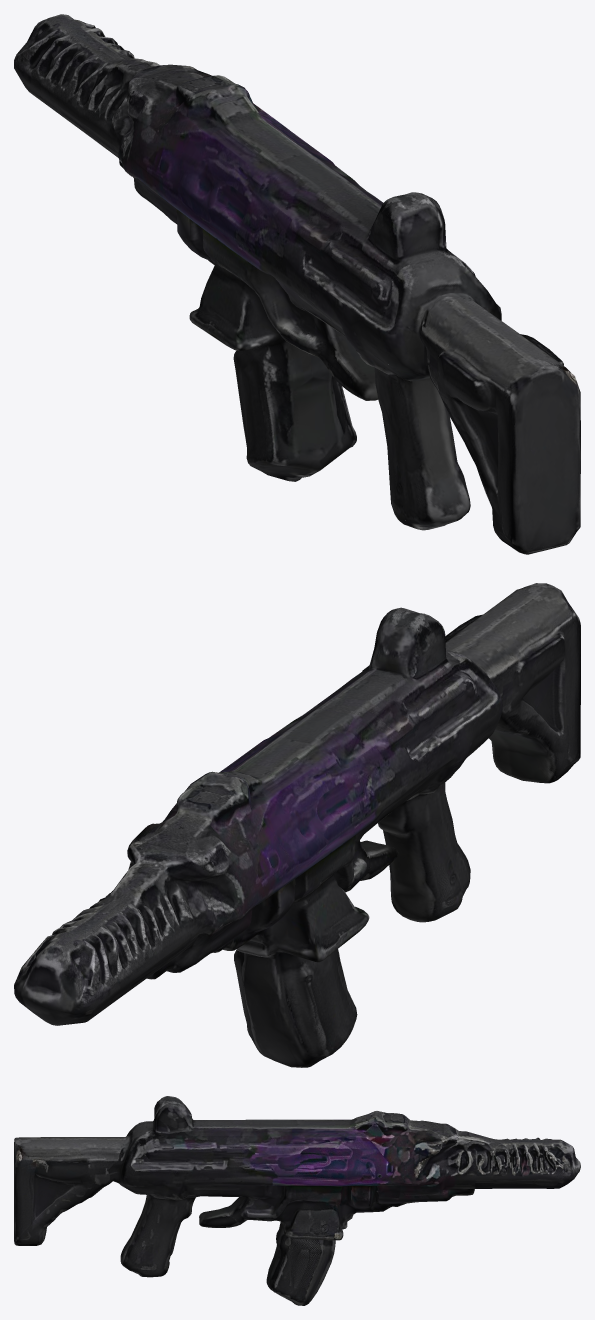
File: gun.glb
3 views of the same model, one above another, from view 1: azimuth 30°, elevation 25°; view 2: azimuth 150°, elevation 25°; view 3: azimuth 270°, elevation 25° (orthographic). The views are drawn at different scales.
Visible parts, largest first — view 1: tripo_node_666295af-03cb-44c0-9100-6fa4aa2b0321; view 2: tripo_node_666295af-03cb-44c0-9100-6fa4aa2b0321; view 3: tripo_node_666295af-03cb-44c0-9100-6fa4aa2b0321.
Part boxes in pixels (left/top/right/bottom): tripo_node_666295af-03cb-44c0-9100-6fa4aa2b0321: left=14, top=14, right=580, bottom=554; tripo_node_666295af-03cb-44c0-9100-6fa4aa2b0321: left=14, top=583, right=580, bottom=1067; tripo_node_666295af-03cb-44c0-9100-6fa4aa2b0321: left=14, top=1096, right=580, bottom=1305.
Bounding box in the file's own units: 0.149 × 0.3929 × 0.9818.
1 material, 1 textured.
